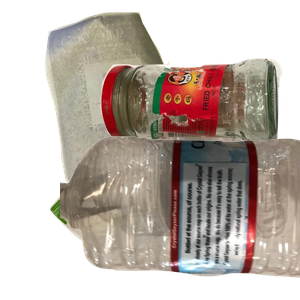glass: (98, 56, 300, 201)
paper: (43, 10, 221, 185)
plastic: (60, 134, 300, 300)
trash: (47, 146, 220, 300)
